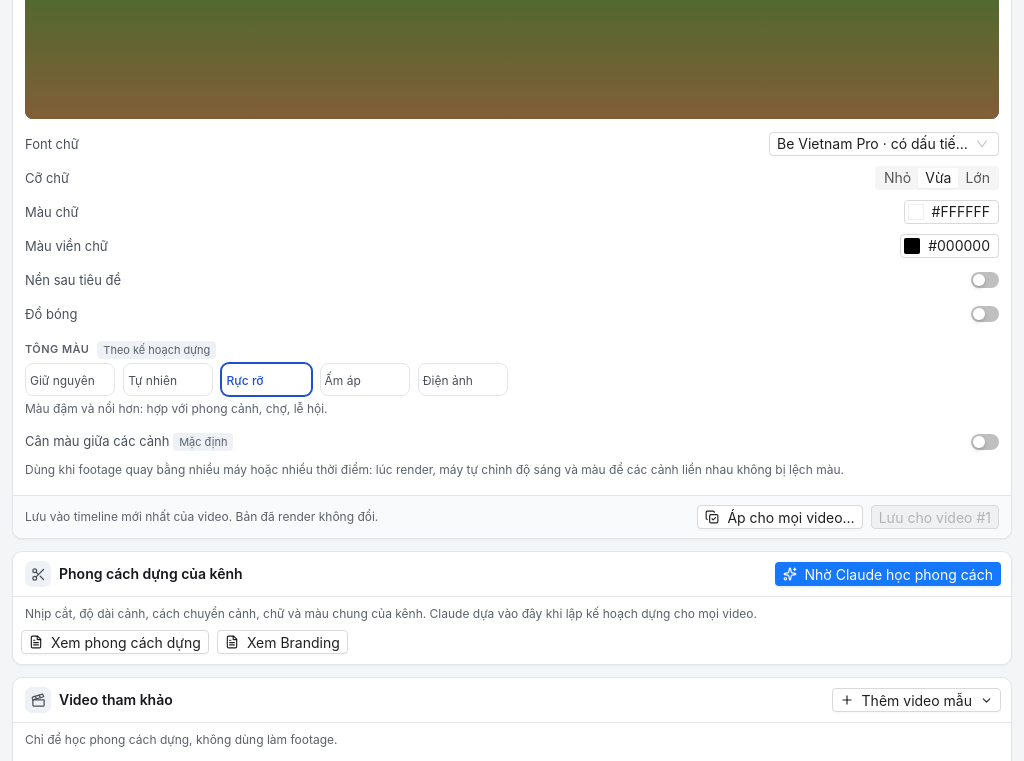
Scenario: Style tab › in a video: applies what it shows to every video after saying whose own style is replaced
The image size is (1024, 761).
(page scrolled)
Step 1. Click the radio button labelled "Ấm áp" → (365, 379), box [320,363,410,396]
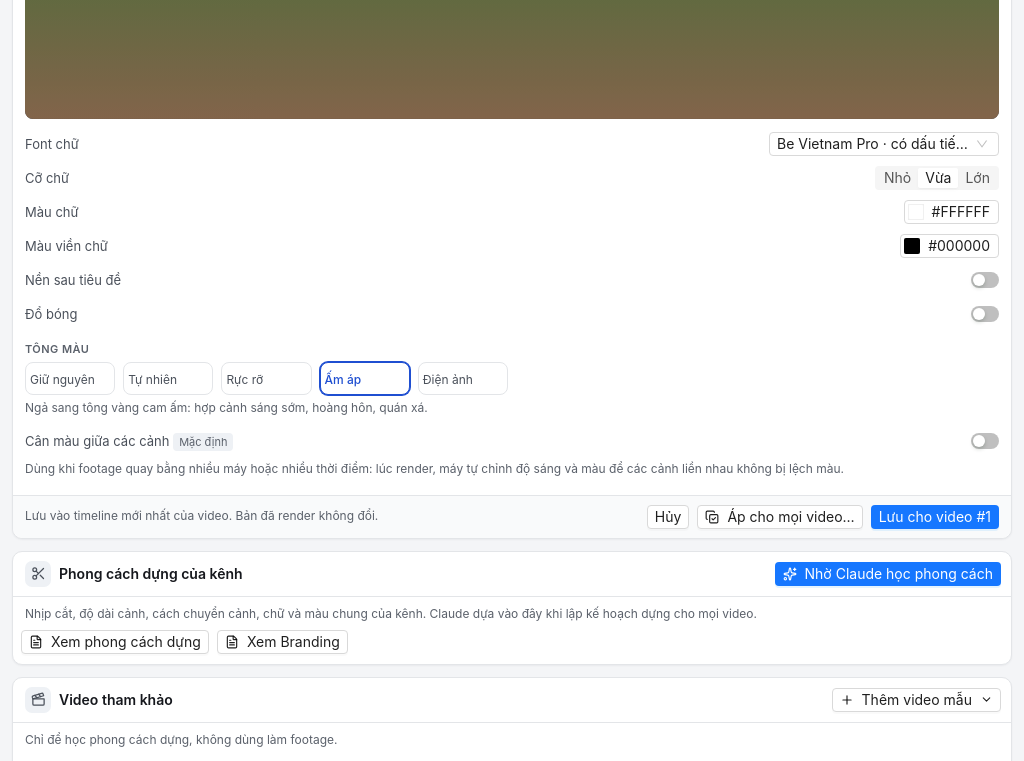
Step 2. Click the button "Áp cho mọi video…" → (780, 517), box [697,505,863,529]
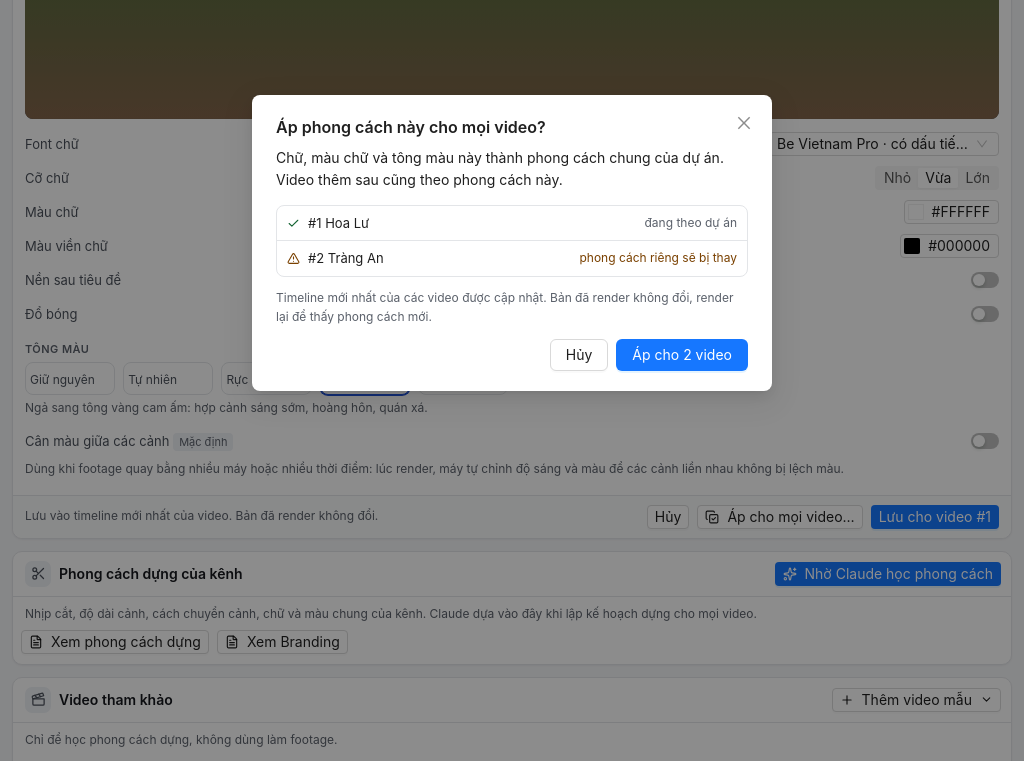
Step 3. Click the button "Áp cho 2 video" → (682, 354), box [616,338,748,370]
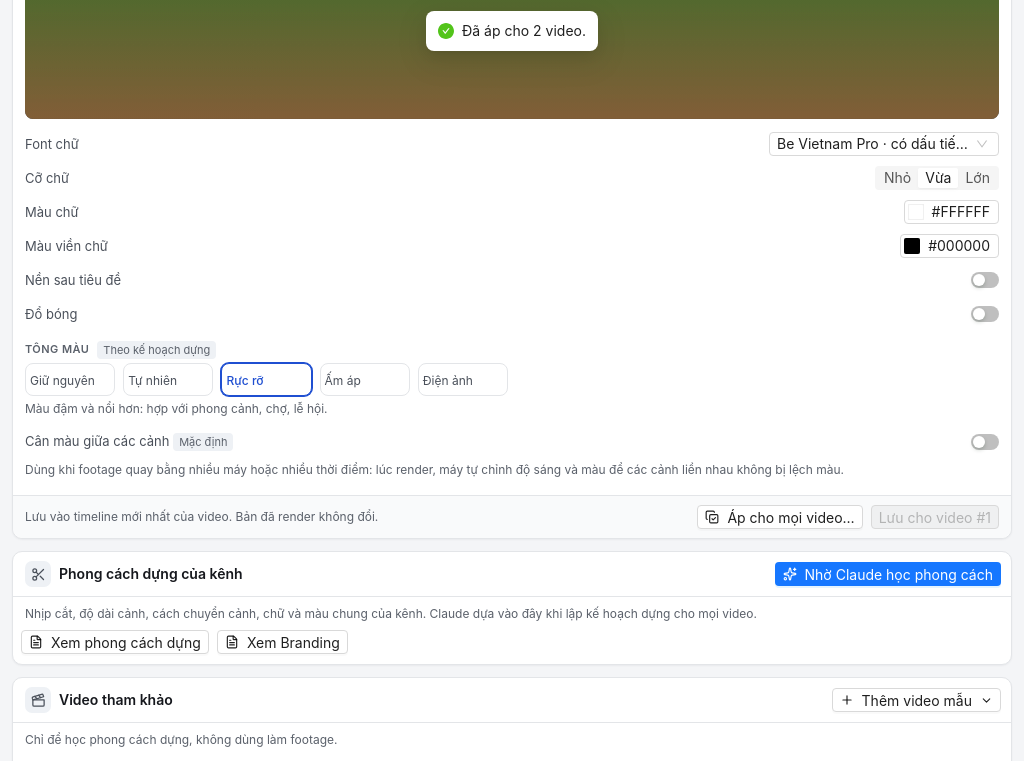
Expected: the text "Đã áp cho 2 video." is shown, [462,20,586,42]
